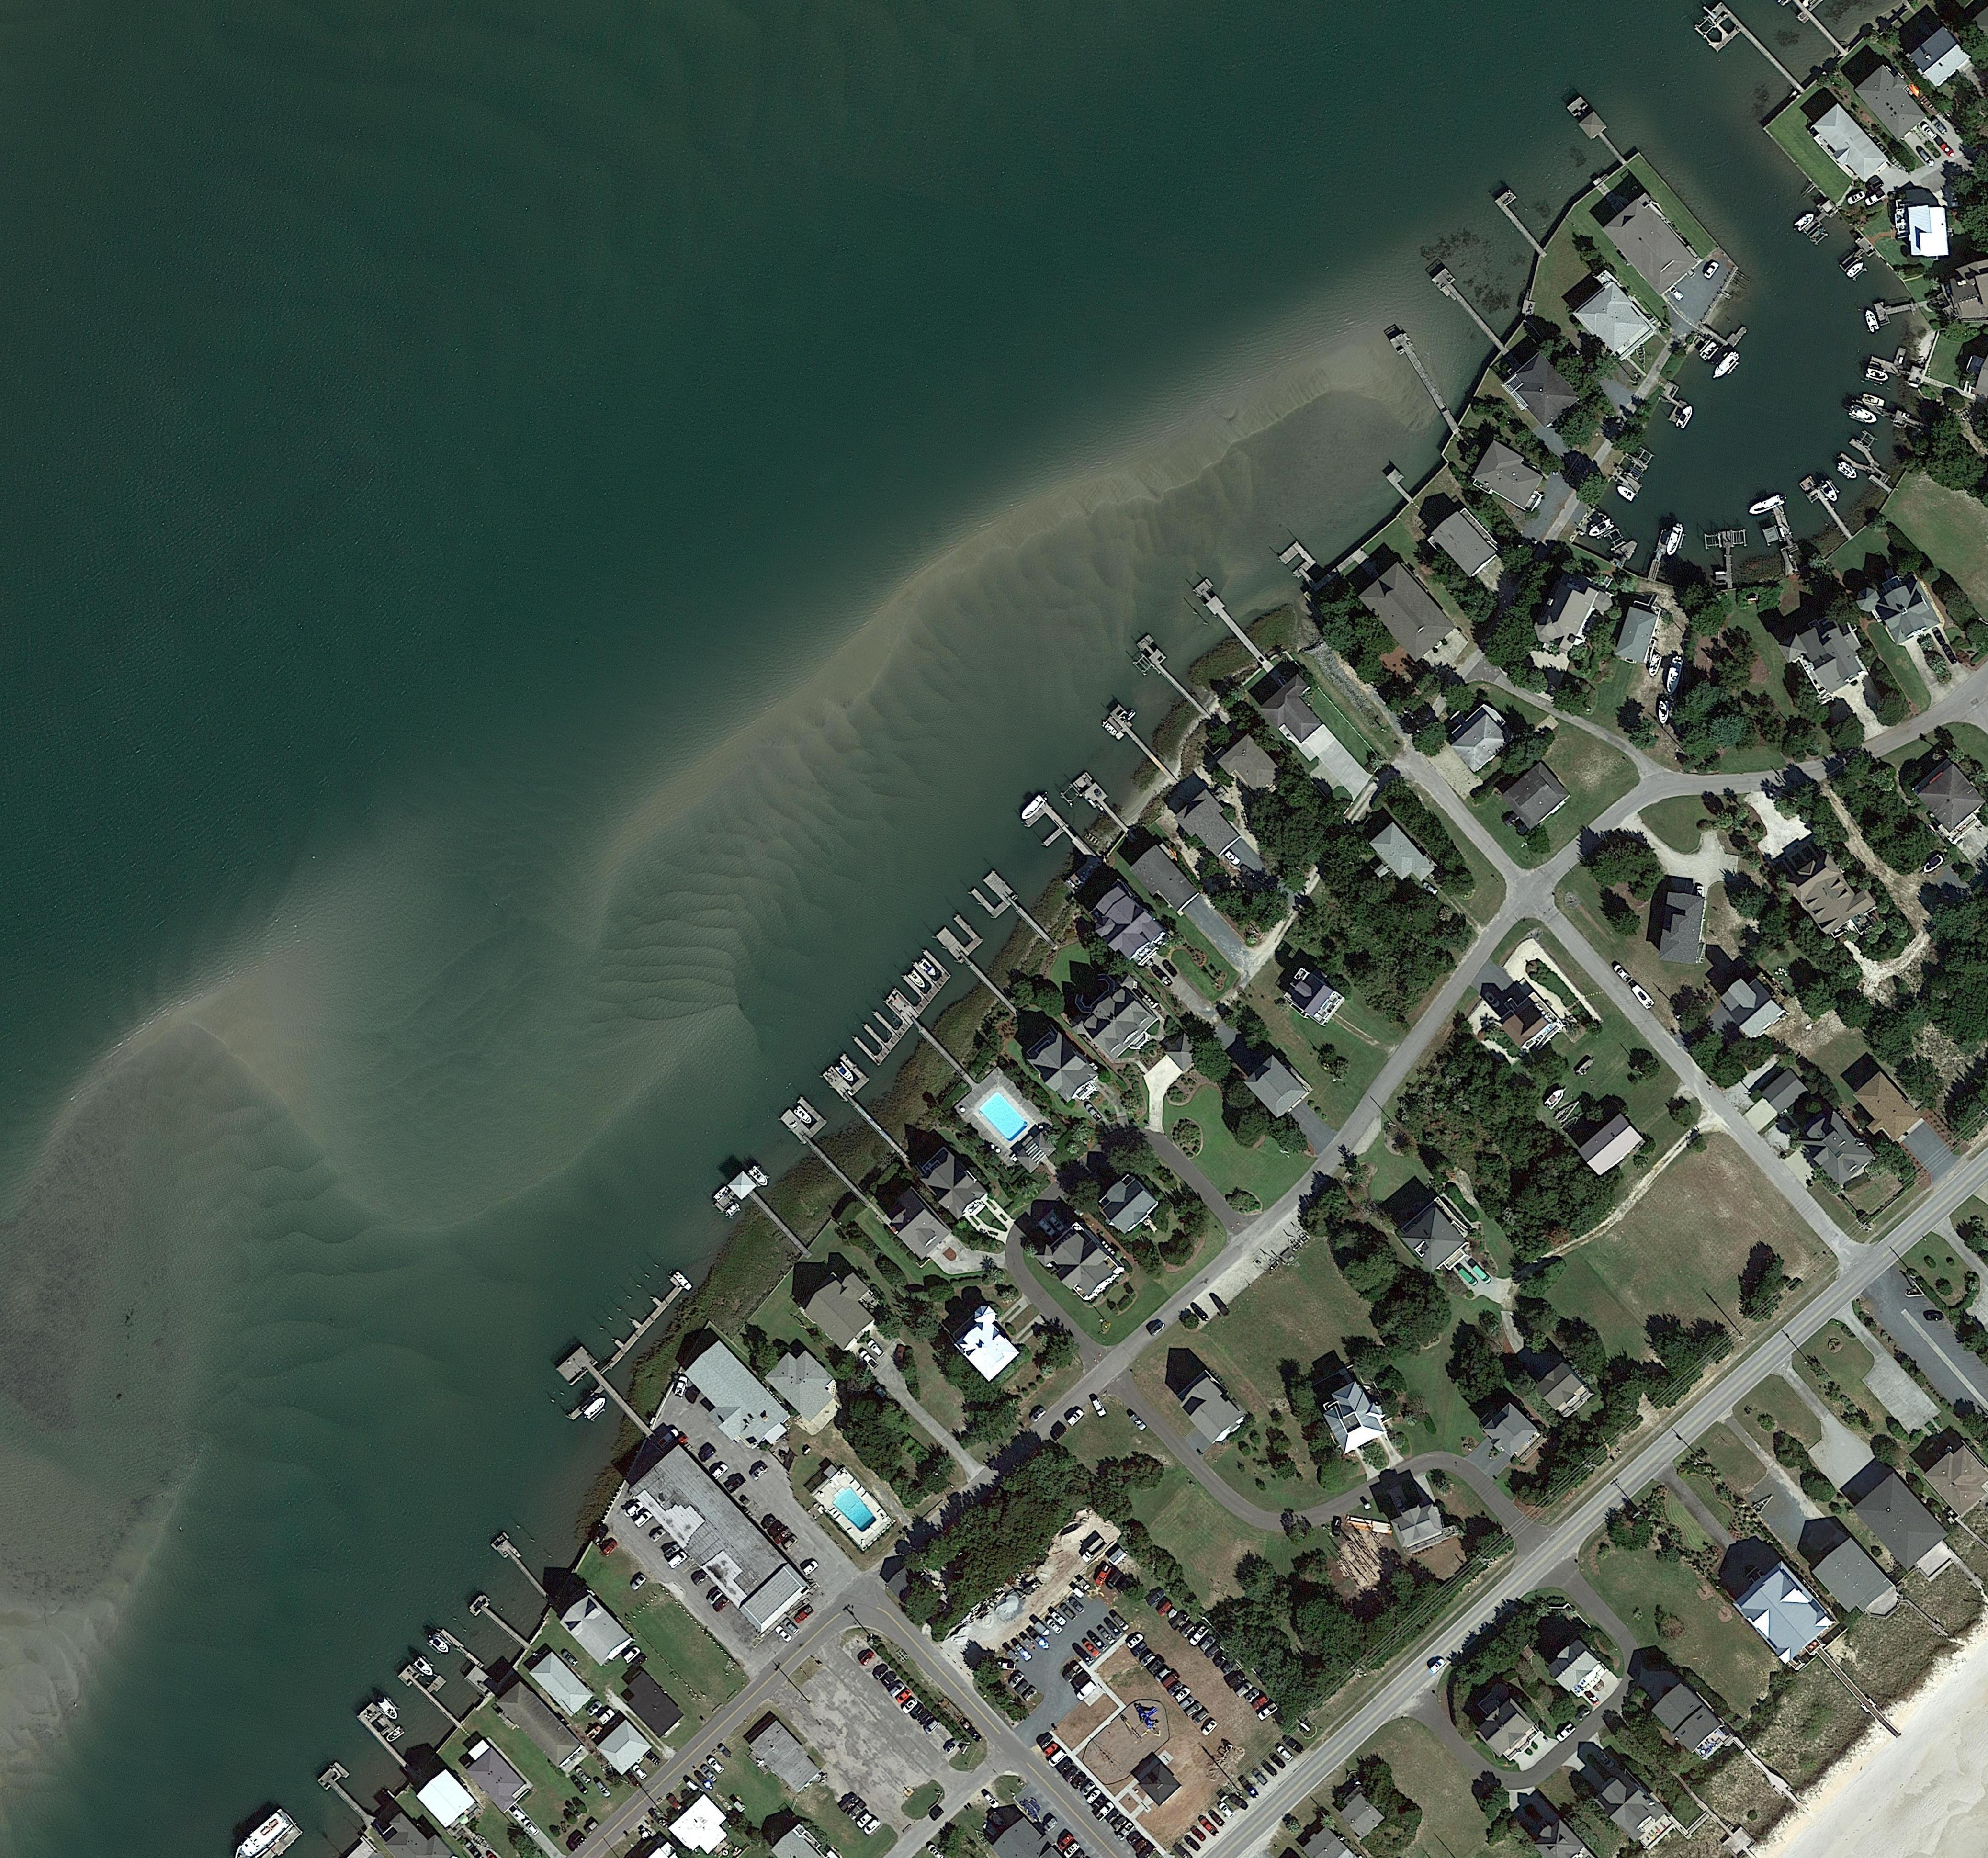harbor: (1693, 2, 1805, 115), (849, 950, 956, 1069), (554, 1345, 652, 1451), (779, 1097, 879, 1196), (711, 1170, 807, 1271), (821, 1053, 915, 1151), (597, 1275, 685, 1371), (935, 915, 1017, 995), (970, 871, 1050, 952), (1391, 332, 1457, 428), (1432, 269, 1508, 351), (397, 1652, 472, 1732), (1191, 578, 1267, 657), (1136, 634, 1209, 711), (1563, 96, 1633, 171), (1106, 704, 1174, 777), (355, 1701, 423, 1772), (1778, 2, 1860, 61), (491, 1533, 557, 1607), (316, 1760, 384, 1828), (466, 1593, 535, 1654), (1798, 477, 1852, 545), (1073, 772, 1130, 833), (1494, 189, 1550, 251), (1024, 802, 1078, 856), (1840, 438, 1899, 487), (1279, 541, 1326, 592), (437, 1626, 486, 1673), (1869, 339, 1916, 381), (1710, 323, 1750, 367), (1710, 531, 1736, 592), (1646, 529, 1672, 583), (1874, 297, 1920, 327), (1852, 398, 1897, 423), (1385, 468, 1419, 501), (1609, 534, 1639, 569), (1771, 505, 1794, 548), (1660, 395, 1688, 424), (1614, 470, 1644, 496), (1801, 211, 1831, 236), (1840, 248, 1867, 271)
ship: (1747, 492, 1787, 519), (1710, 349, 1742, 382), (1665, 655, 1684, 698), (1663, 522, 1684, 557), (1630, 983, 1656, 1009), (1020, 795, 1046, 821), (1586, 517, 1616, 540), (376, 1696, 400, 1722), (1543, 1086, 1569, 1111), (583, 1395, 608, 1420), (748, 1165, 772, 1189), (1850, 407, 1880, 426), (1836, 459, 1860, 482), (1675, 403, 1696, 430), (1922, 852, 1944, 875), (414, 1655, 437, 1678), (833, 1062, 856, 1084), (1819, 478, 1840, 503), (1792, 211, 1817, 232), (1862, 306, 1880, 334), (430, 1633, 451, 1655), (907, 969, 928, 992), (1647, 651, 1663, 679), (793, 1105, 814, 1126), (673, 1270, 694, 1290), (1614, 484, 1637, 503), (1866, 367, 1890, 384), (917, 959, 938, 978), (1846, 260, 1866, 279), (384, 1725, 405, 1743), (1862, 393, 1887, 407), (1658, 700, 1668, 726)
